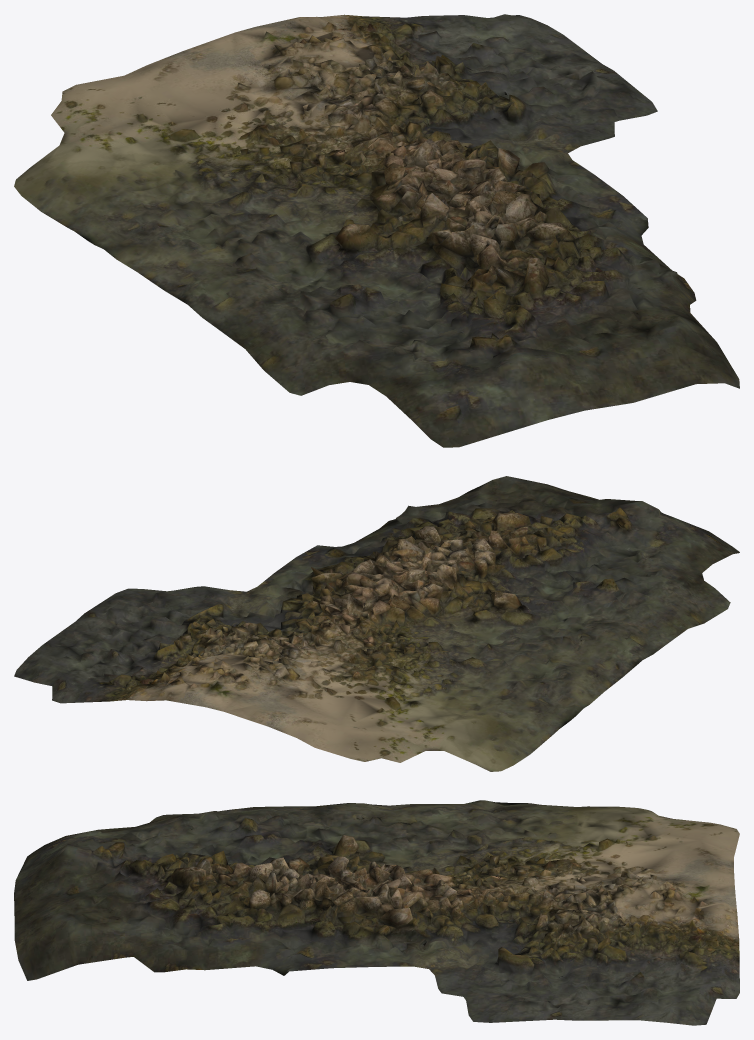
Rendered from rocks_a.jpg-BK9XjGMy.glb.
The picture shows the model from 3 angles, top to bottom: view 1: azimuth 30°, elevation 25°; view 2: azimuth 150°, elevation 25°; view 3: azimuth 270°, elevation 25°; orthographic projection. The views are drawn at different scales.
Parts seen in each view (by area): view 1: coast_rocks_03; view 2: coast_rocks_03; view 3: coast_rocks_03.
Part boxes in pixels (left/top/right/bottom): coast_rocks_03: left=14, top=14, right=739, bottom=447; coast_rocks_03: left=14, top=476, right=739, bottom=771; coast_rocks_03: left=14, top=800, right=739, bottom=1025.
Size of the model in its own units: 21.11 by 3.2 by 28.27.
1 material, 1 textured.
